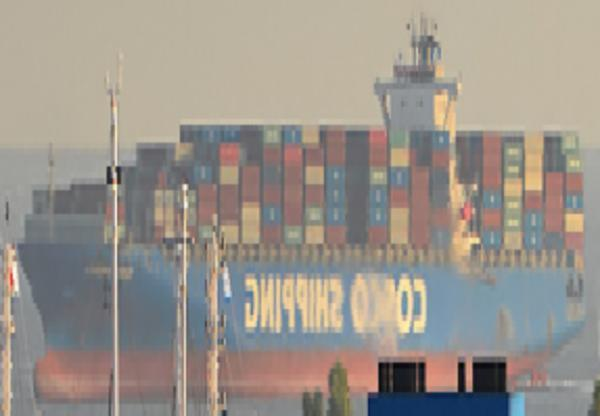Container Ship: (0, 10, 599, 415)
